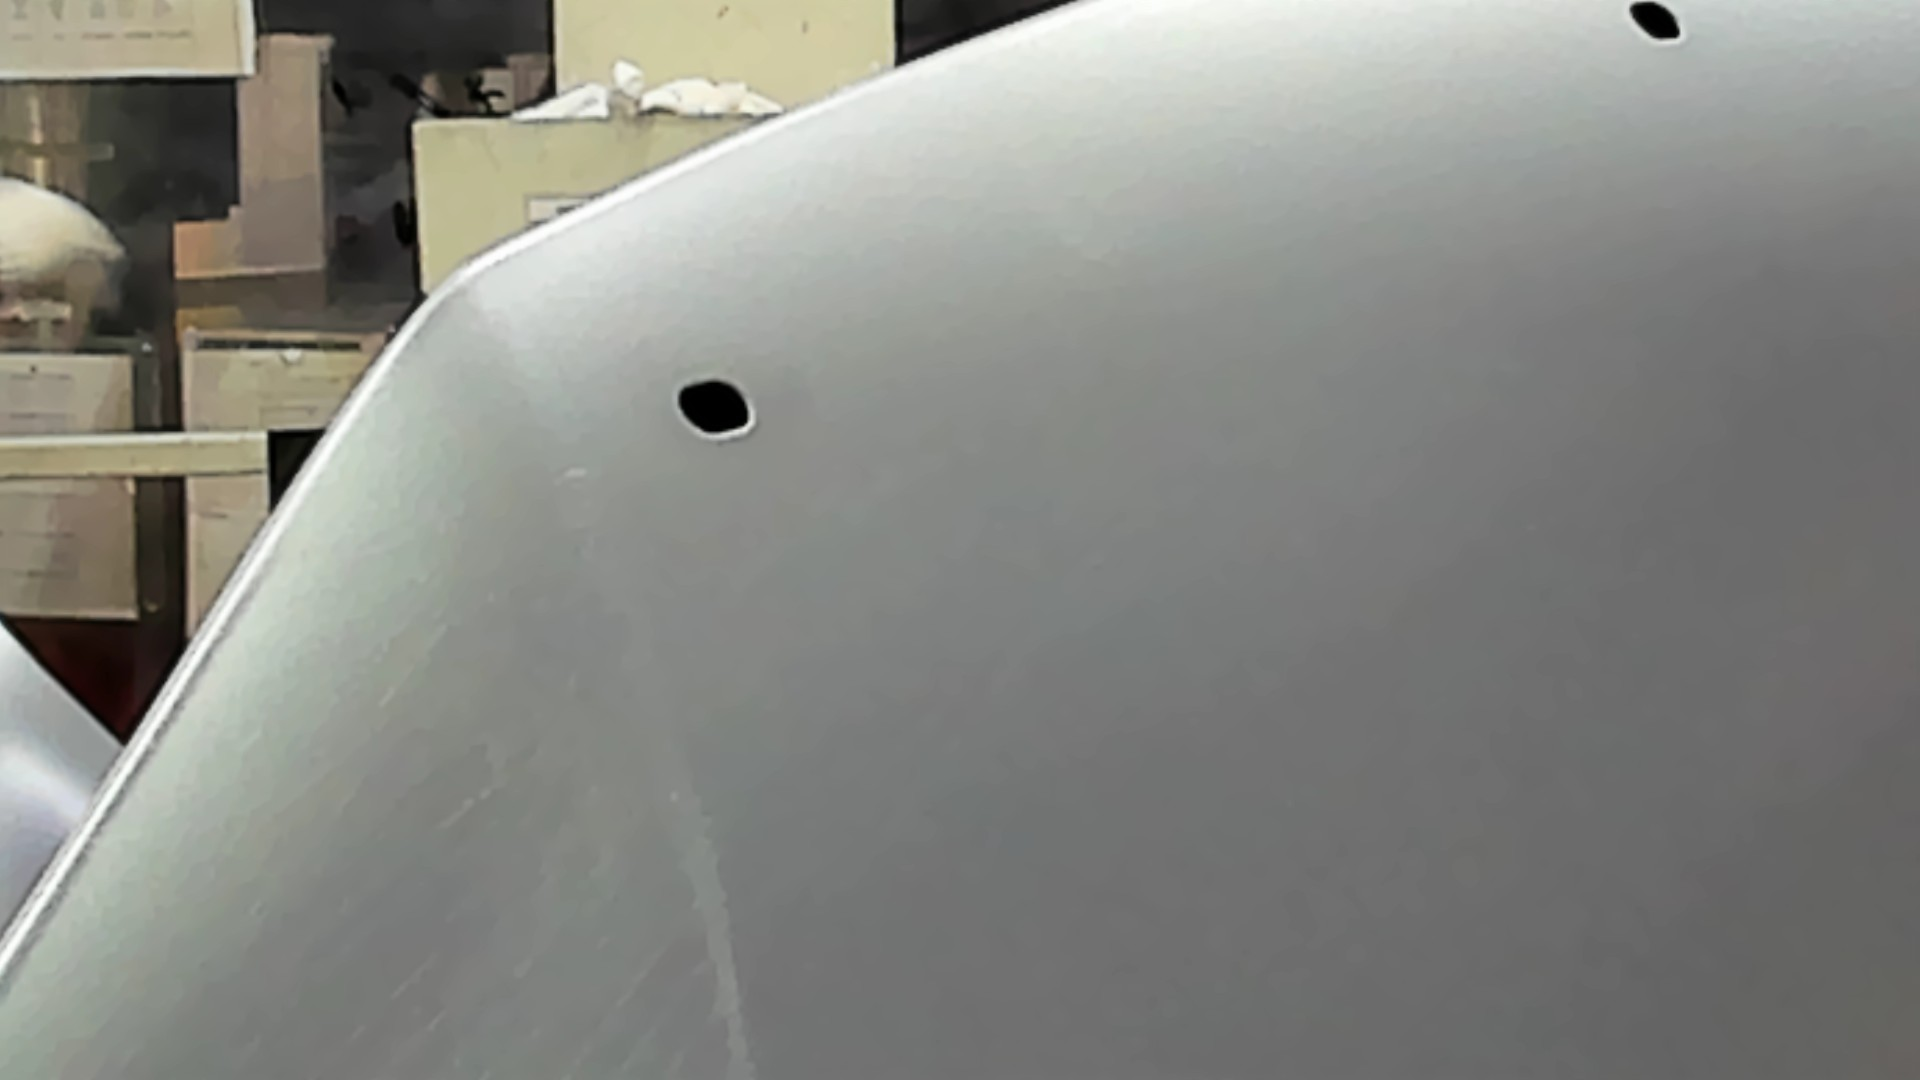amorfo: (671, 372, 761, 440), (1625, 1, 1688, 47)
